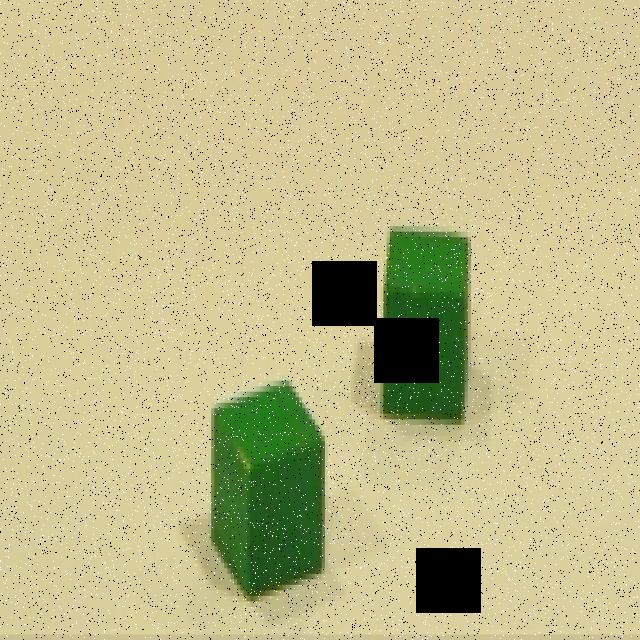green cube: (211, 379, 322, 600), (382, 229, 470, 421)
